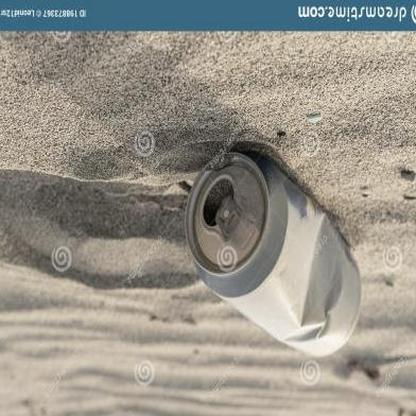can: (185, 151, 361, 360)
